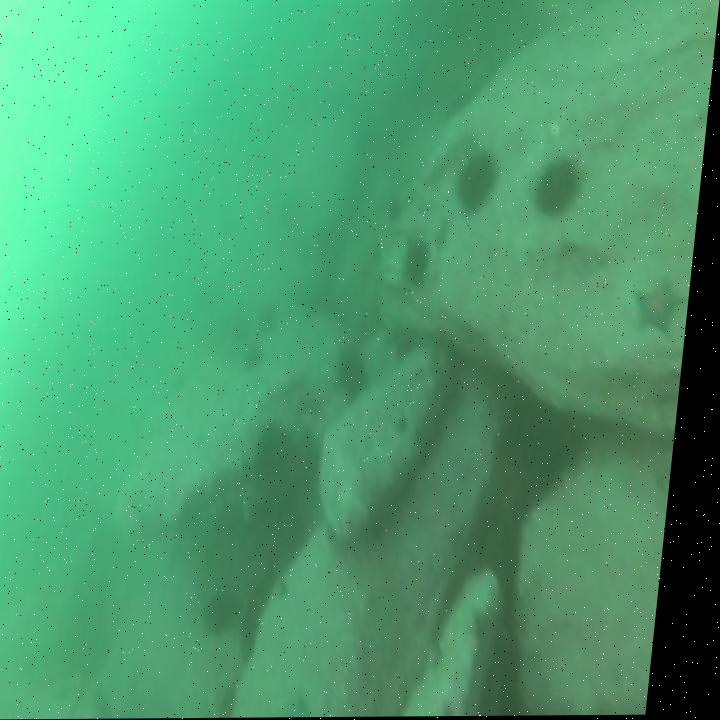echinus: (529, 151, 595, 221), (454, 150, 504, 220), (261, 420, 304, 482), (402, 234, 443, 298), (341, 346, 380, 410), (213, 582, 250, 640), (397, 323, 435, 365), (260, 302, 290, 340), (248, 341, 275, 375)
starfish: (633, 265, 697, 339)
